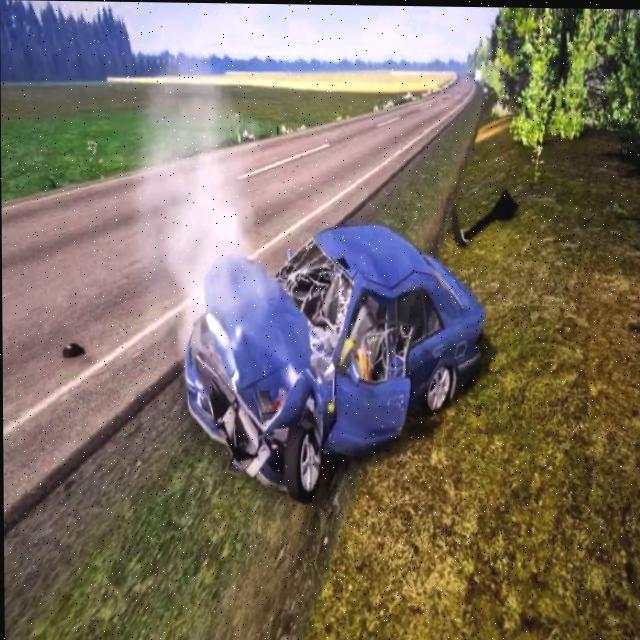single accident: (153, 120, 515, 538)
